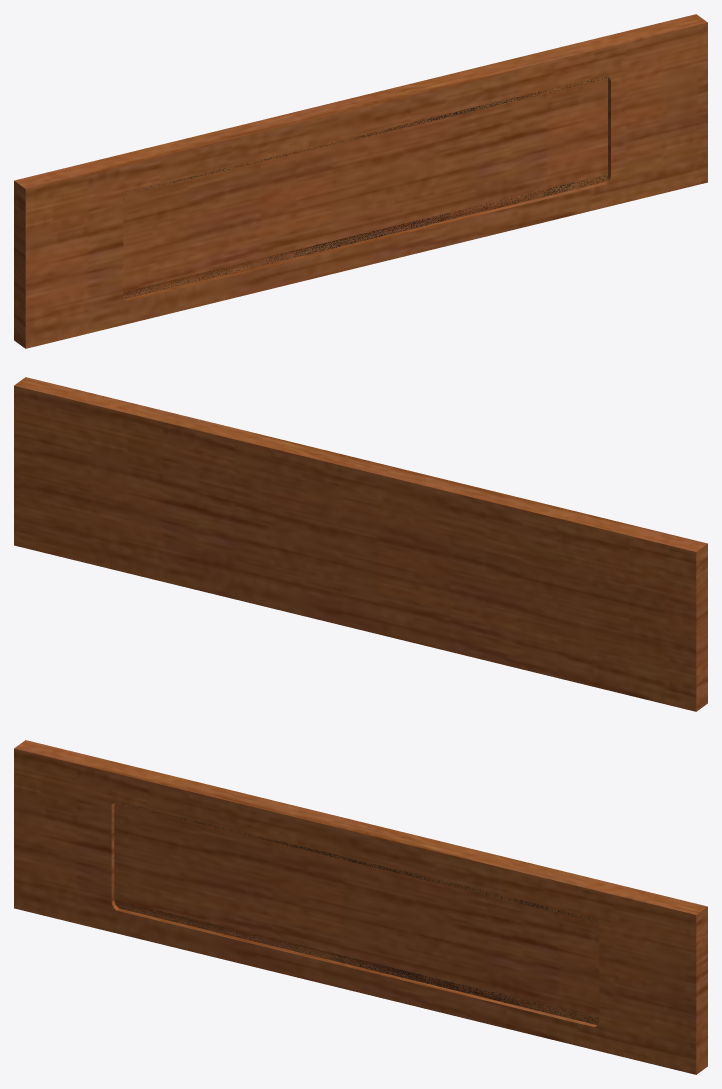
The picture shows the model from 3 angles, top to bottom: view 1: azimuth 30°, elevation 25°; view 2: azimuth 150°, elevation 25°; view 3: azimuth 330°, elevation 25°; orthographic projection.
Size of the model in its own units: 0.9848 by 0.2205 by 0.0291.
